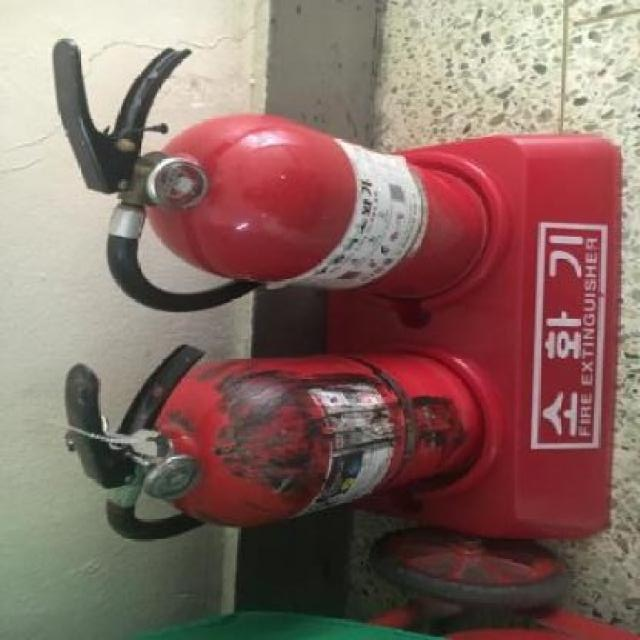fire extinguisher: (53, 38, 490, 313), (62, 342, 482, 541)
